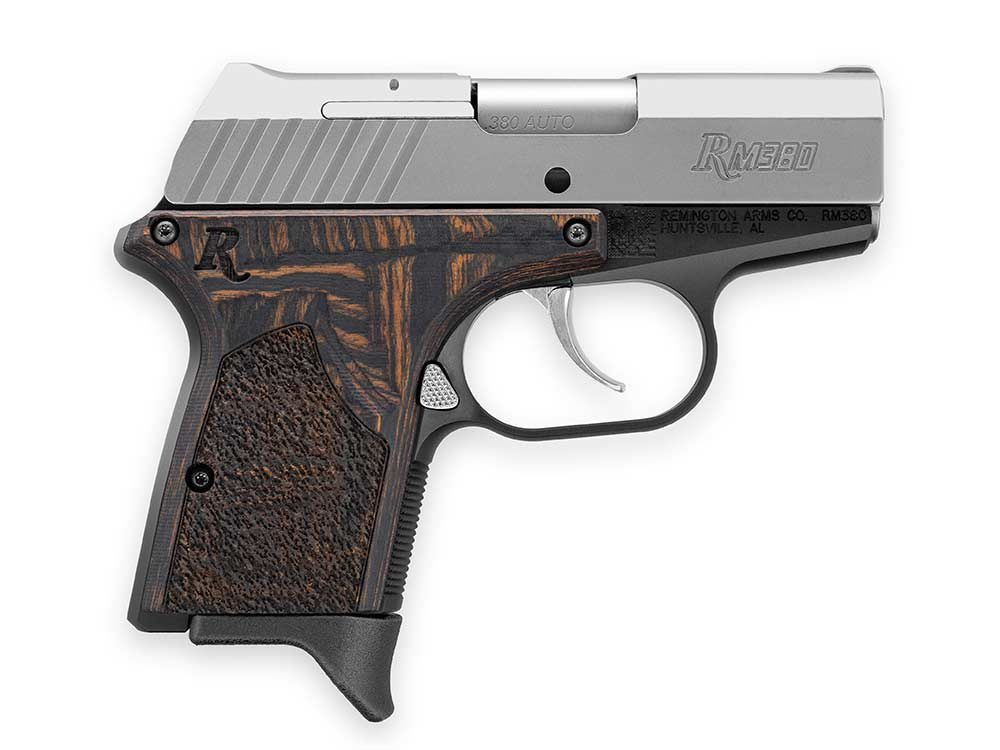gun: (107, 49, 898, 737)
